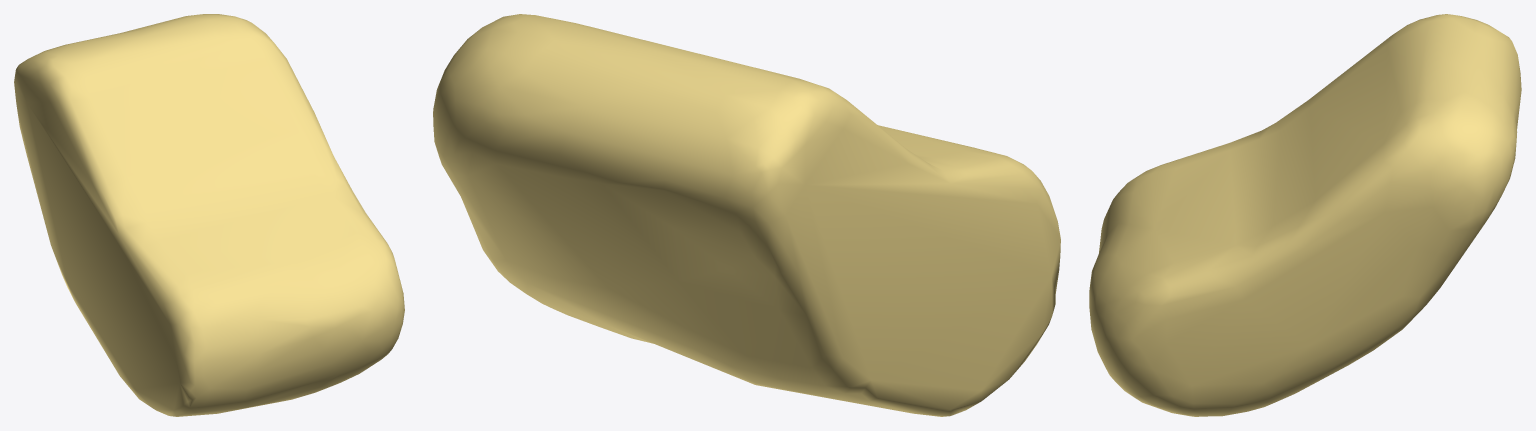
3 renders of one model, left to right at view 1: azimuth 30°, elevation 25°; view 2: azimuth 150°, elevation 25°; view 3: azimuth 270°, elevation 25°, orthographic. The views are drawn at different scales.
Visible parts, largest first — view 1: ZA_1fd2352ee46ba09e; view 2: ZA_1fd2352ee46ba09e; view 3: ZA_1fd2352ee46ba09e.
Boxes of the visible parts, left/top/right/bottom form: ZA_1fd2352ee46ba09e: left=14, top=14, right=404, bottom=416; ZA_1fd2352ee46ba09e: left=433, top=14, right=1060, bottom=416; ZA_1fd2352ee46ba09e: left=1089, top=14, right=1521, bottom=416.
Size of the model in its own units: 0.00711 by 0.00785 by 0.01.
